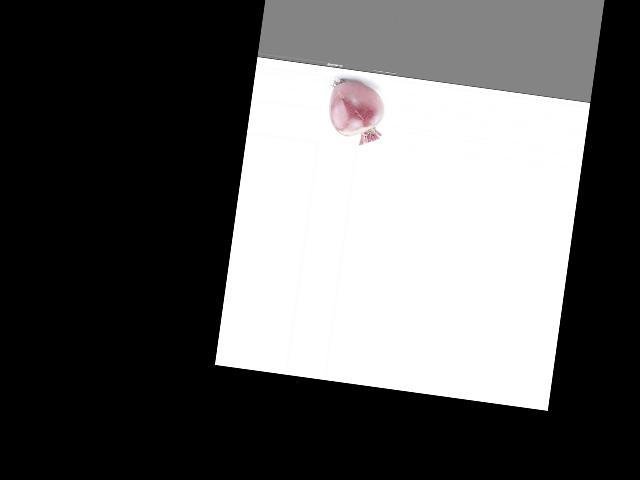beet: (324, 78, 388, 147)
